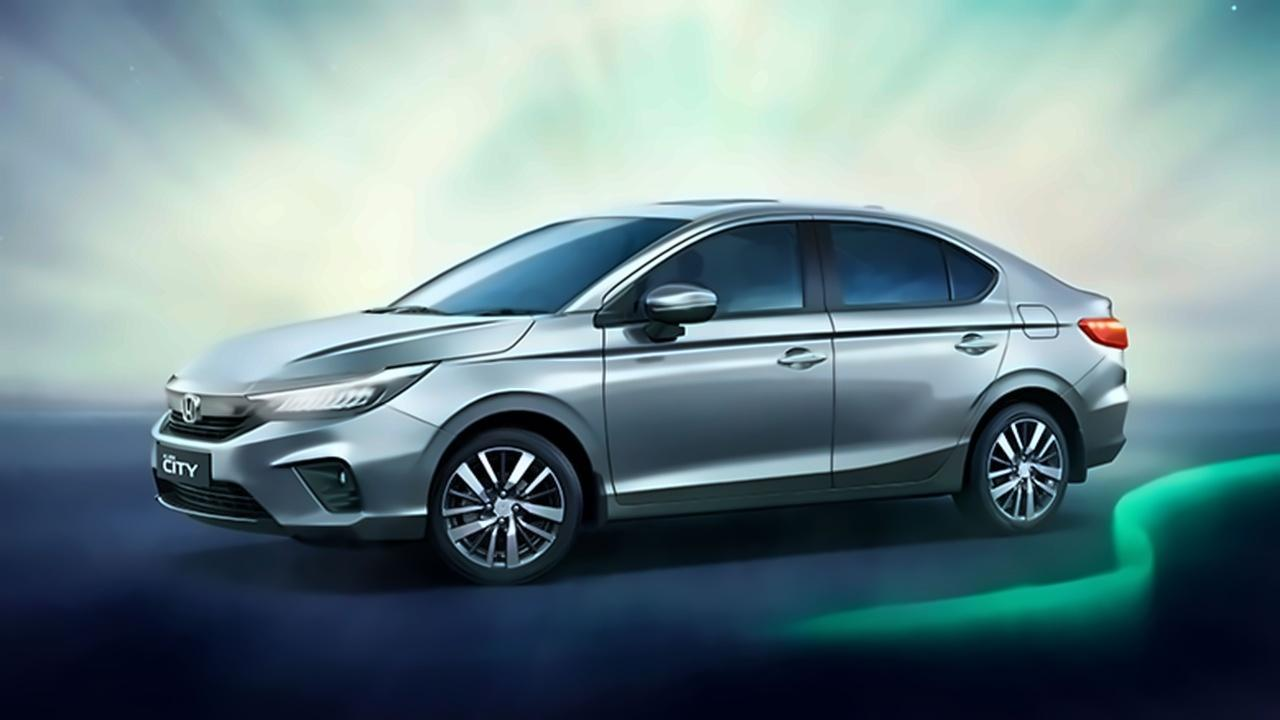Car hood: (166, 300, 539, 394)
Fender - -F-L-: (378, 300, 617, 493)
Fender - -R-L-: (930, 233, 1124, 438)
Front bumper: (137, 395, 453, 539)
Headlight - -L-: (253, 359, 442, 429)
Passenger-s door - -F-L-: (592, 194, 849, 529)
Passenger-s door - -R-L-: (778, 187, 1019, 515)
Rear bumper: (1056, 355, 1131, 479)
Rear light - -L-: (1077, 312, 1136, 354)
Side bumper - -L-: (577, 437, 986, 535)
Side mirror - -L-: (635, 279, 726, 354)
